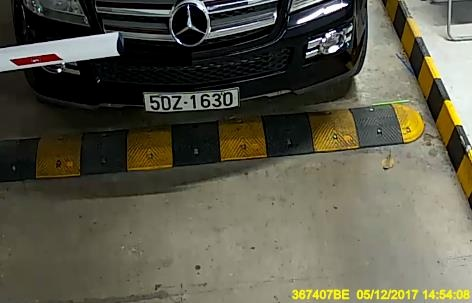plate: (142, 86, 242, 113)
